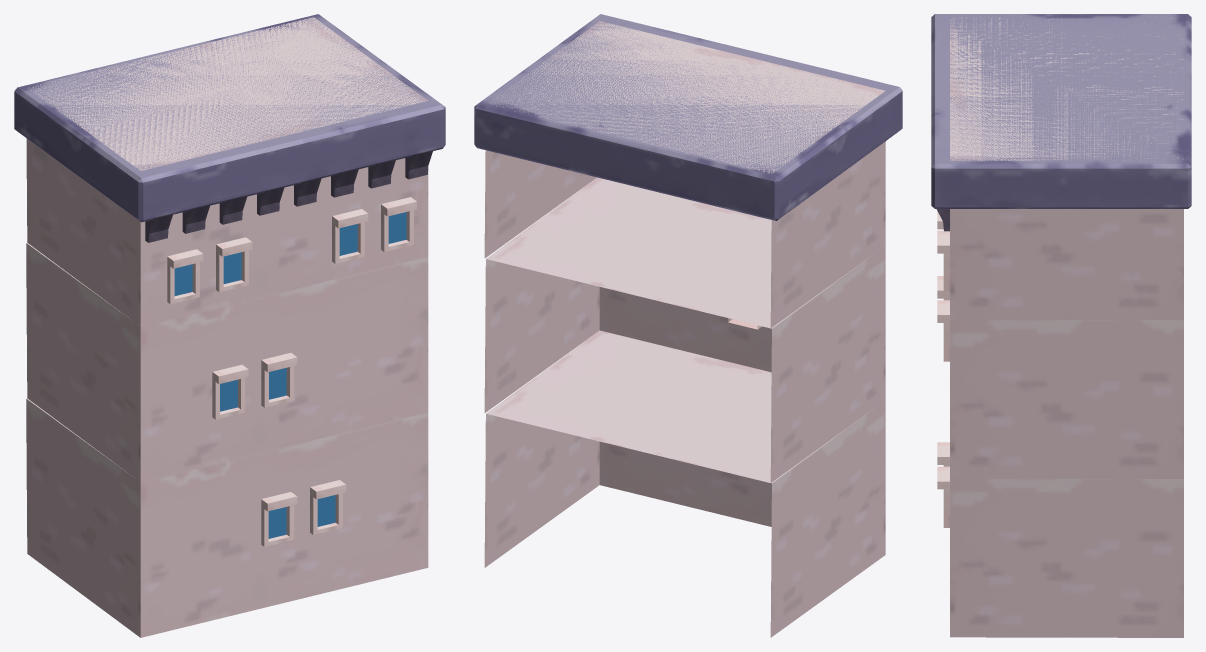
Rendered from bld-1.fbx.
3 views of the same model, side by side, from view 1: azimuth 30°, elevation 25°; view 2: azimuth 150°, elevation 25°; view 3: azimuth 270°, elevation 25° (orthographic). The views are drawn at different scales.
Parts seen in each view (by area): view 1: bld1-wall, Cube.035, Cube.036, bld1-top, bld1-rim, Cube.053, Cube.054, Cube.055, Cube.040, bld1-window, Cube.041, Cube.056 (+1 smaller); view 2: Cube.036, Cube.035, bld1-top, bld1-wall; view 3: bld1-top, Cube.036, Cube.035, bld1-wall, Cube.056, Cube.042, Cube.054.
Boxes of the visible parts, bbox=[...] form: bld1-wall: bbox=[26, 17, 428, 326]; Cube.035: bbox=[26, 242, 428, 482]; Cube.036: bbox=[26, 398, 428, 637]; bld1-top: bbox=[14, 14, 445, 222]; bld1-rim: bbox=[145, 150, 433, 242]; Cube.053: bbox=[212, 364, 248, 419]; Cube.054: bbox=[261, 353, 297, 407]; Cube.055: bbox=[261, 492, 297, 546]; Cube.040: bbox=[216, 237, 252, 292]; bld1-window: bbox=[167, 249, 203, 304]; Cube.041: bbox=[332, 209, 368, 263]; Cube.056: bbox=[310, 480, 346, 534]; Cube.036: bbox=[484, 330, 885, 637]; Cube.035: bbox=[484, 177, 885, 482]; bld1-top: bbox=[474, 14, 902, 220]; bld1-wall: bbox=[484, 21, 885, 327]; bld1-top: bbox=[931, 14, 1191, 208]; Cube.036: bbox=[950, 478, 1183, 637]; Cube.035: bbox=[950, 319, 1183, 478]; bld1-wall: bbox=[950, 17, 1183, 320]; Cube.056: bbox=[937, 466, 949, 527]; Cube.042: bbox=[937, 230, 949, 291]; Cube.054: bbox=[937, 300, 949, 361].
Size of the model in its own units: 3.1 by 4.5 by 2.23.
